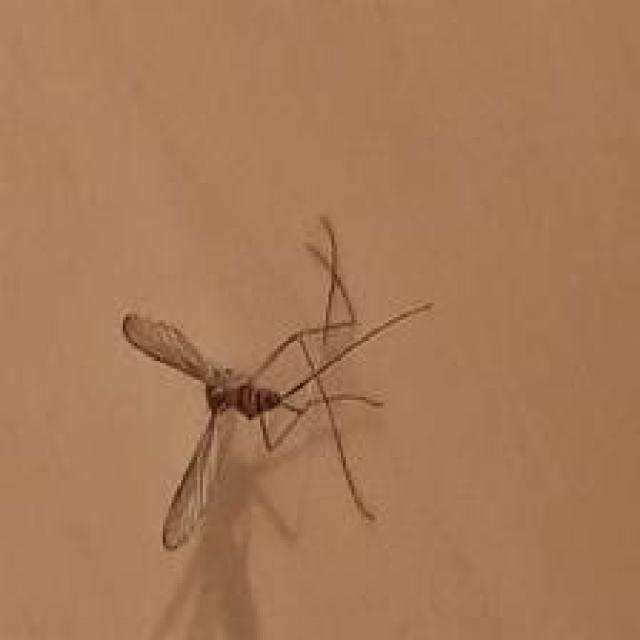Culex: (120, 216, 434, 553)
